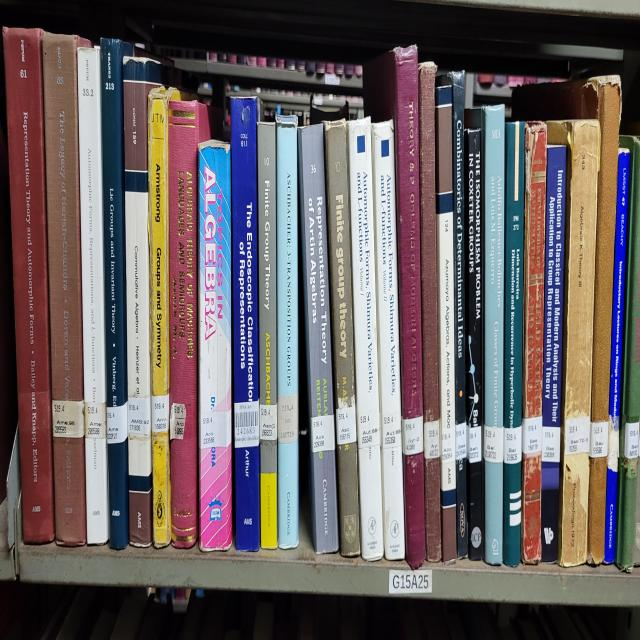Book: (512, 76, 621, 565), (364, 46, 426, 568), (4, 27, 55, 544), (42, 32, 88, 547), (548, 119, 600, 565), (169, 100, 210, 547), (124, 57, 161, 547), (466, 106, 505, 565), (298, 124, 339, 552), (100, 38, 134, 549), (348, 116, 384, 560), (324, 122, 360, 557), (436, 73, 468, 560), (78, 46, 109, 544), (371, 122, 405, 560), (148, 87, 180, 547), (199, 141, 232, 552), (231, 97, 260, 552), (521, 122, 548, 565), (419, 62, 441, 563), (435, 87, 458, 563), (615, 135, 640, 571), (604, 149, 630, 563), (541, 146, 566, 563), (502, 122, 525, 565), (276, 116, 299, 549), (258, 122, 278, 549), (465, 130, 484, 560)
Label: (19, 390, 51, 433), (52, 400, 85, 438), (234, 400, 259, 449), (200, 411, 231, 449), (278, 392, 299, 444), (311, 414, 335, 452), (106, 403, 128, 444), (128, 398, 151, 436), (84, 400, 106, 438), (358, 411, 380, 449), (402, 417, 424, 455), (336, 406, 356, 446), (484, 425, 504, 463), (522, 417, 542, 455), (151, 395, 170, 433), (259, 403, 278, 441), (382, 411, 401, 449), (541, 425, 560, 463), (424, 419, 440, 460), (504, 425, 521, 463), (170, 403, 186, 438), (468, 425, 481, 463), (441, 425, 455, 460), (455, 422, 466, 460)
